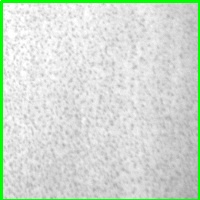pitted_surface: (1, 1, 199, 200)
